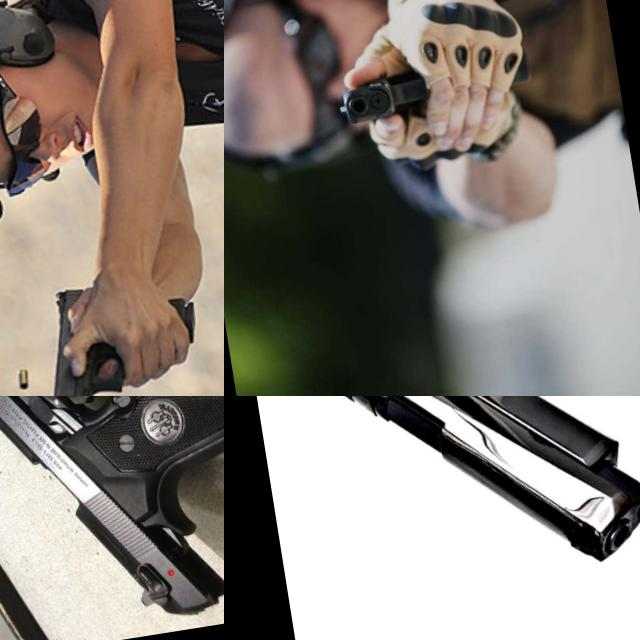handgun: (230, 396, 640, 640), (0, 396, 224, 640), (22, 278, 139, 396), (332, 64, 432, 129)
